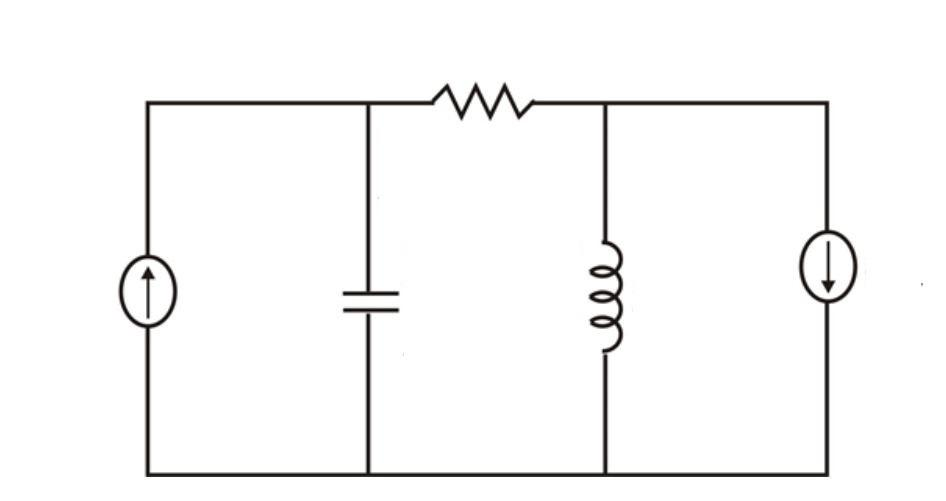resistor: (405, 69, 539, 144)
